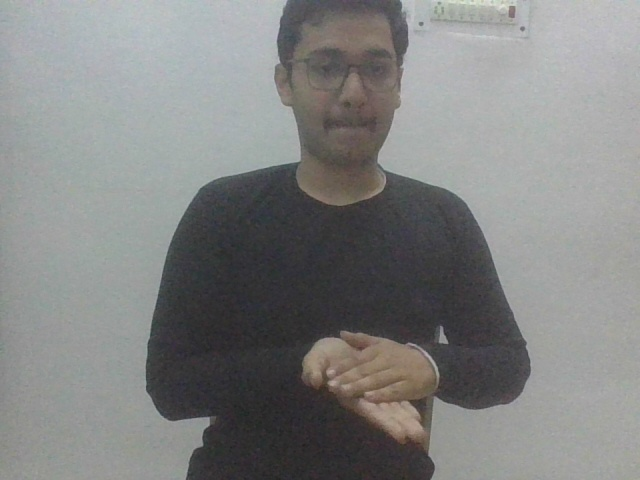H: (299, 327, 441, 446)
